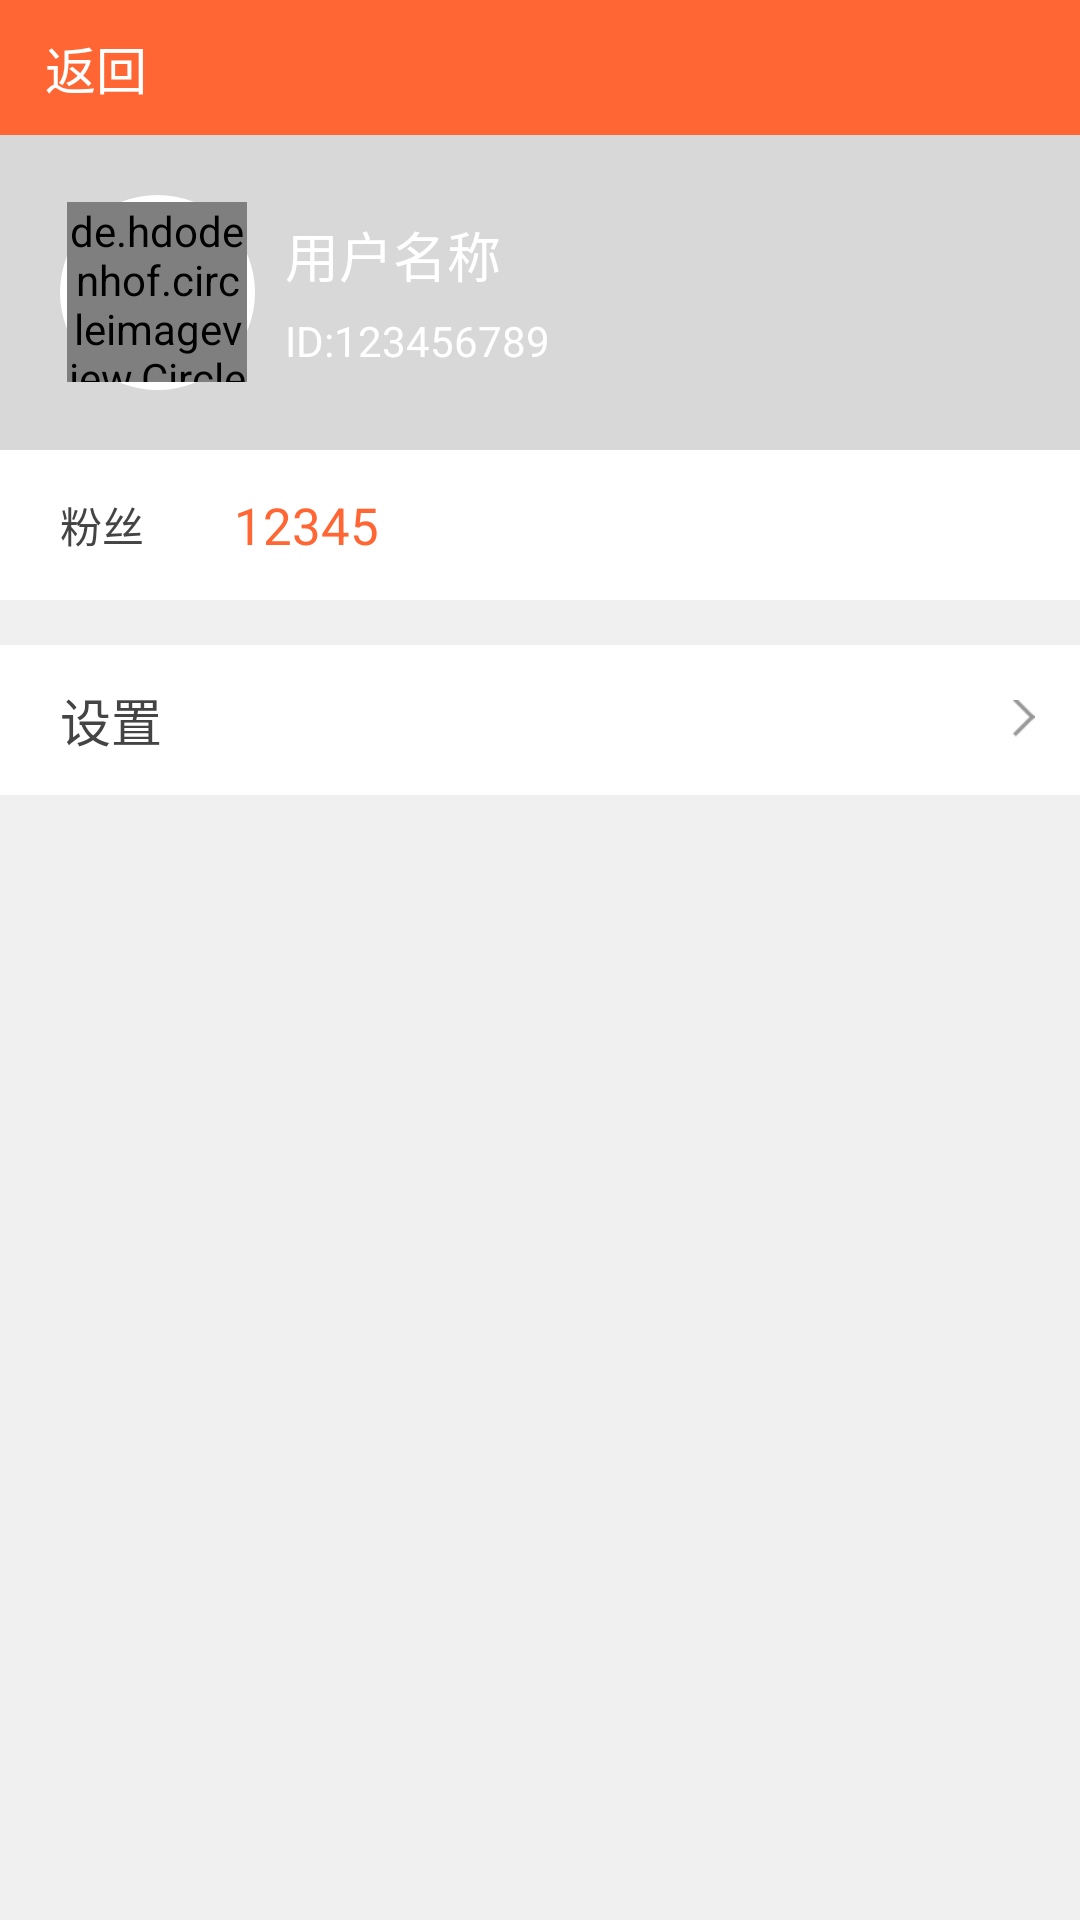

Named icons in this screenshot (1080x1920) and their bounding boxes, BBox(x1, y1, x2, y2):
item into: BBox(1013, 700, 1035, 736)
